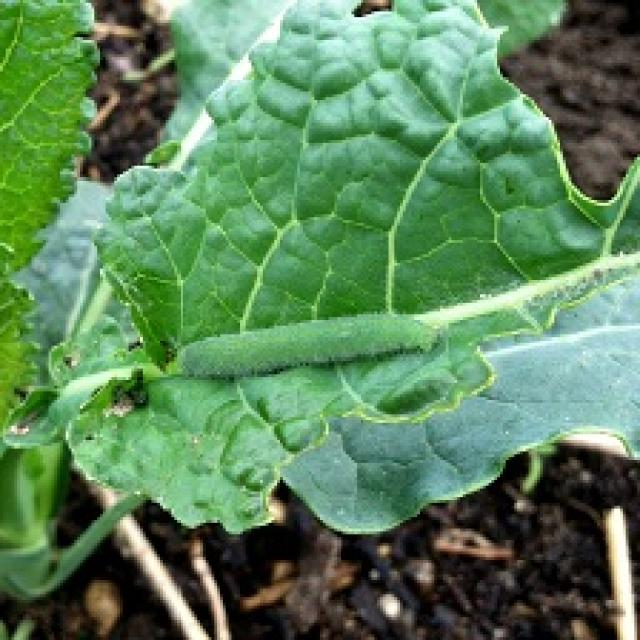Cabbage-worm: (166, 312, 444, 391)
